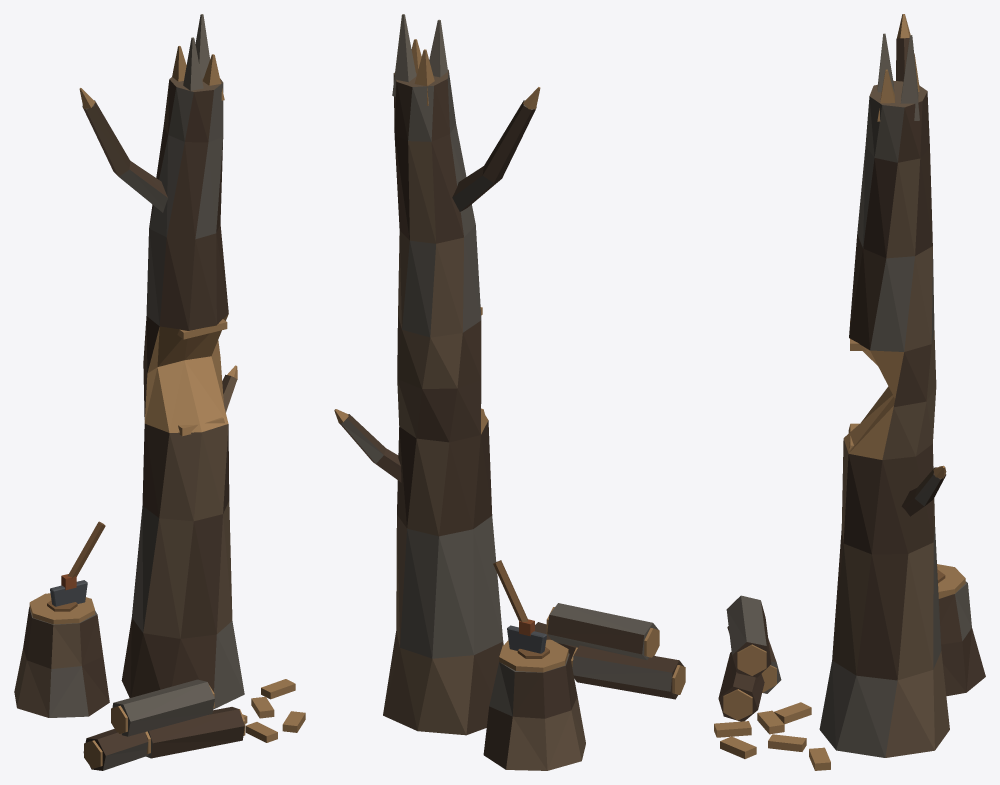
Rendered from dead_log_b.fbx.
The picture shows the model from 3 angles, left to right: view 1: azimuth 30°, elevation 25°; view 2: azimuth 150°, elevation 25°; view 3: azimuth 270°, elevation 25°; orthographic projection. The views are drawn at different scales.
Visible parts, largest first — view 1: dead_log_b; view 2: dead_log_b; view 3: dead_log_b.
Boxes of the visible parts, bbox=[...] form: dead_log_b: bbox=[14, 14, 305, 770]; dead_log_b: bbox=[334, 14, 685, 770]; dead_log_b: bbox=[714, 14, 985, 770].
Size of the model in its own units: 1.09 by 2.88 by 0.9989.
